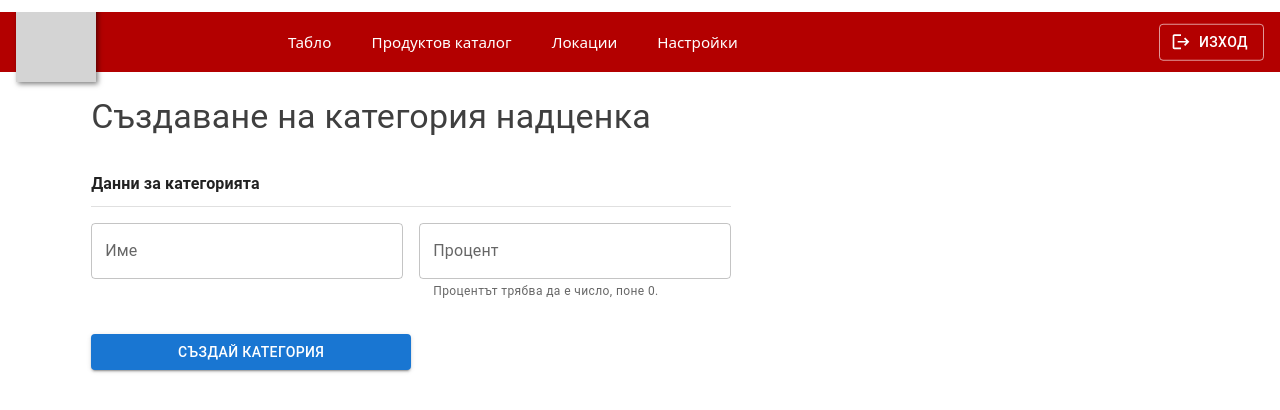
Scenario: Create fee category page › surfaces a duplicate-name error when the API responds with 409
The width and height of the screenshot is (1280, 410).
Type "Стандартна" into the field labelled "Име".
click(247, 251); type("Стандартна")  # box x1=91 y1=223 x2=403 y2=279
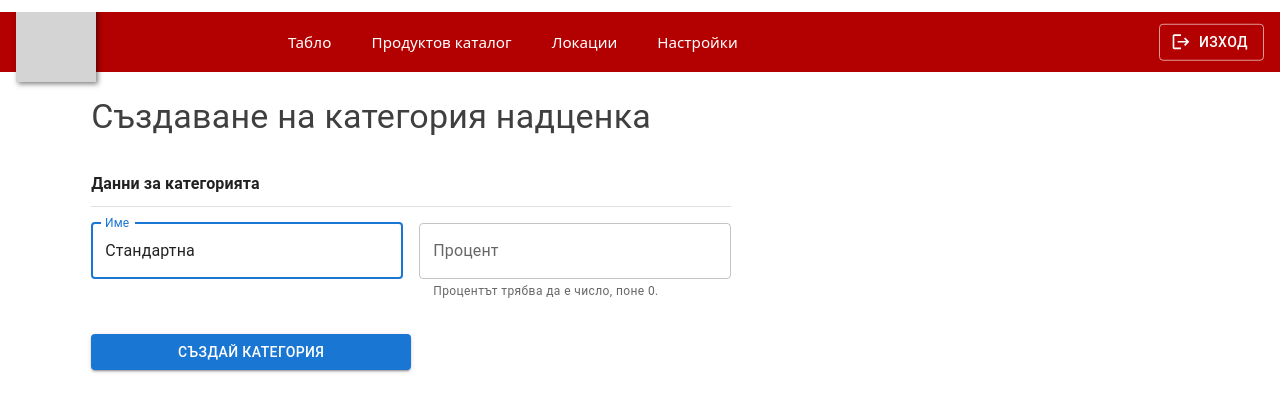
Type "20" into the number field labelled "Процент".
click(575, 251); type("20")  # box x1=419 y1=223 x2=731 y2=279
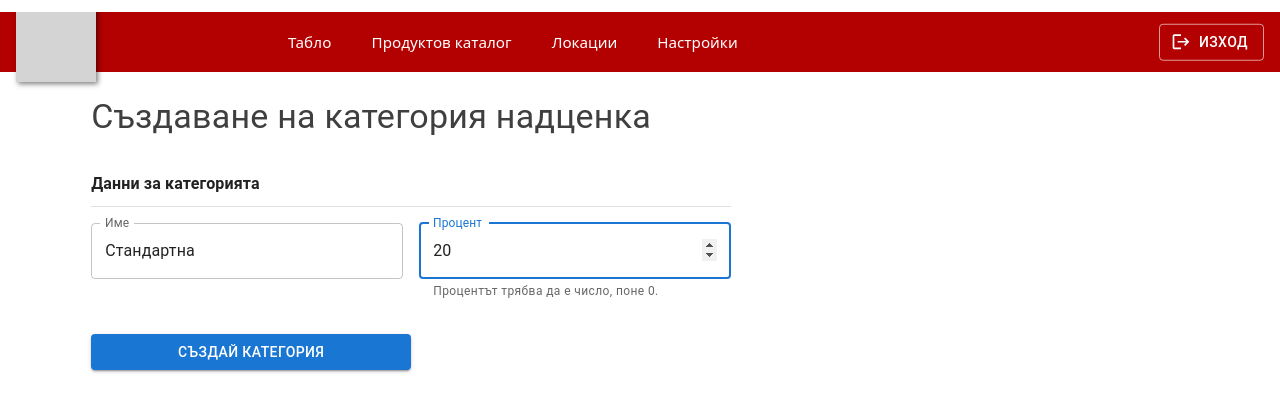
Click the button "Създай категория".
click(251, 352)  # box x1=91 y1=334 x2=411 y2=370
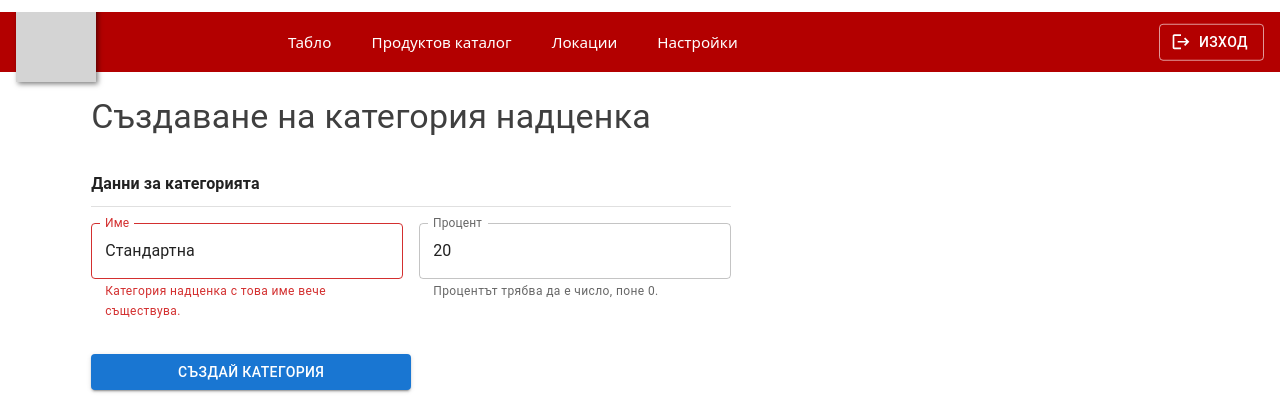
Expected: the text "Категория надценка с това име вече съществува." is shown, x1=105 y1=284 x2=326 y2=318
